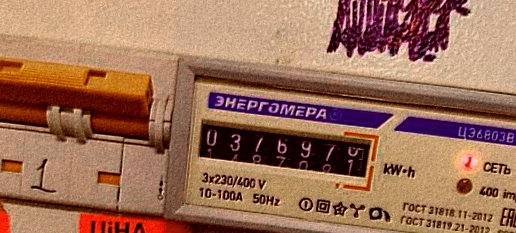0: (205, 126, 220, 148)
1: (344, 157, 357, 176)
3: (228, 131, 243, 152)
6: (275, 133, 290, 155)
7: (251, 131, 266, 154), (323, 140, 337, 163)
9: (299, 138, 313, 160)
screen: (189, 110, 384, 193)
